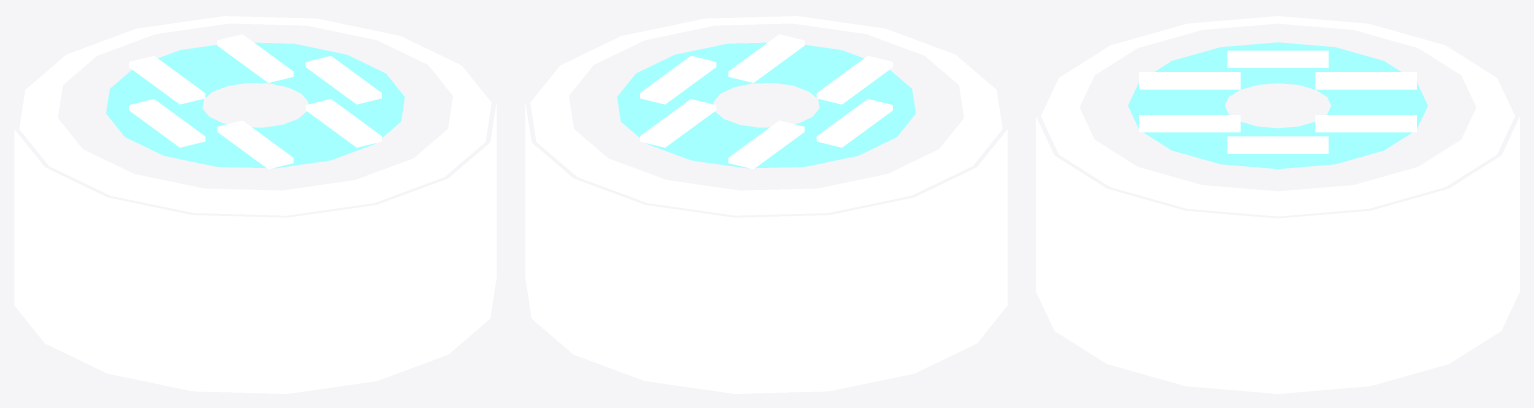
The model's file is hover-wheel.glb.
3 renders of one model, left to right at view 1: azimuth 30°, elevation 25°; view 2: azimuth 150°, elevation 25°; view 3: azimuth 270°, elevation 25°, orthographic.
Parts seen in each view (by area): view 1: hover_wheel; view 2: hover_wheel; view 3: hover_wheel.
Boxes of the visible parts, left/top/right/bottom form: hover_wheel: left=14, top=16, right=496, bottom=393; hover_wheel: left=525, top=16, right=1007, bottom=393; hover_wheel: left=1036, top=16, right=1519, bottom=393.
Size of the model in its own units: 0.5 by 0.238 by 0.5.
